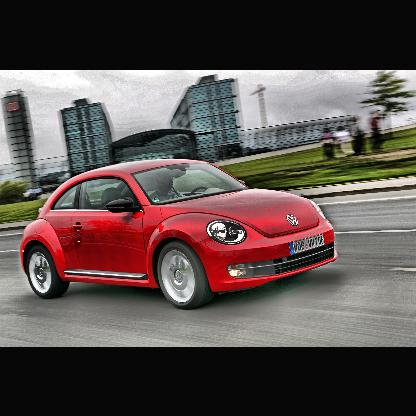Volkswagen Beetle Hatchback 2012: (22, 157, 341, 311)
